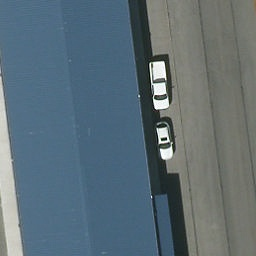car: (155, 119, 176, 163)
pickup: (148, 65, 170, 107)
